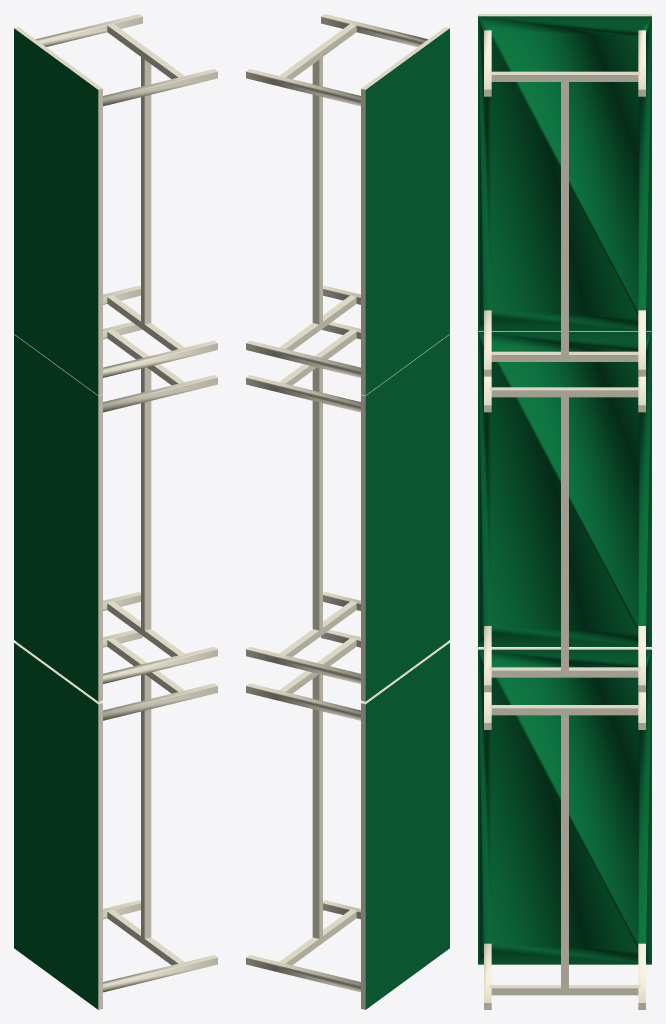
Rendered from sagyoudai3_mesh_yy.obj.
The picture shows the model from 3 angles, left to right: view 1: azimuth 30°, elevation 25°; view 2: azimuth 150°, elevation 25°; view 3: azimuth 270°, elevation 25°; orthographic projection. The views are drawn at different scales.
Visible parts, largest first — view 1: mat2.002, mat2.004, mat2.001; view 2: mat2.002, mat2.004, mat2.001; view 3: mat2.002, mat2.004, mat2.001.
Boxes of the visible parts, x1,y1,x2,y2 form: mat2.002: [14, 14, 217, 395]; mat2.004: [14, 630, 217, 1009]; mat2.001: [14, 322, 217, 701]; mat2.002: [246, 14, 449, 395]; mat2.004: [246, 630, 449, 1009]; mat2.001: [246, 322, 449, 701]; mat2.002: [478, 14, 651, 376]; mat2.004: [478, 647, 651, 1009]; mat2.001: [478, 331, 651, 692].
Bounding box in the file's own units: 0.7546 × 5.42 × 0.9.
